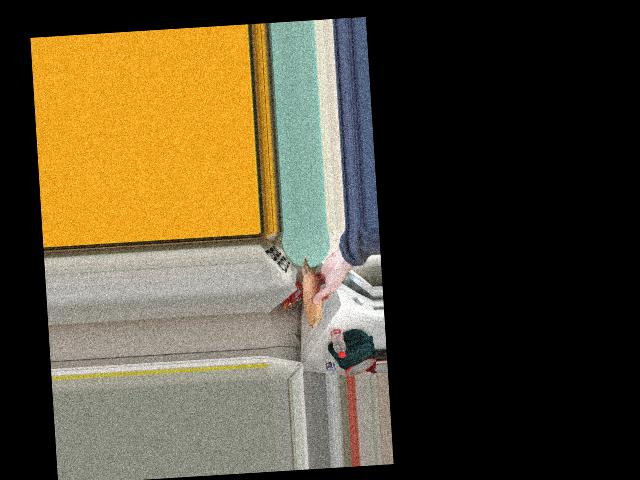sweet_potato: (299, 255, 327, 323)
